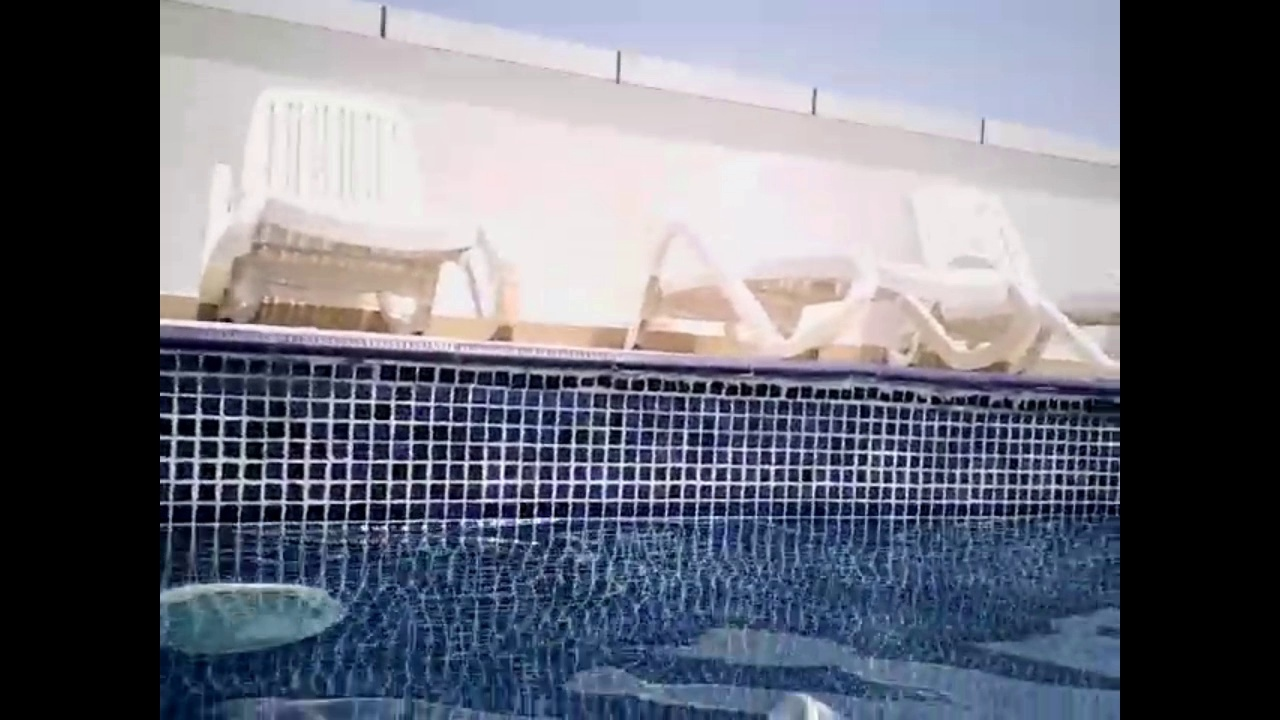debris: (759, 683, 854, 720)
